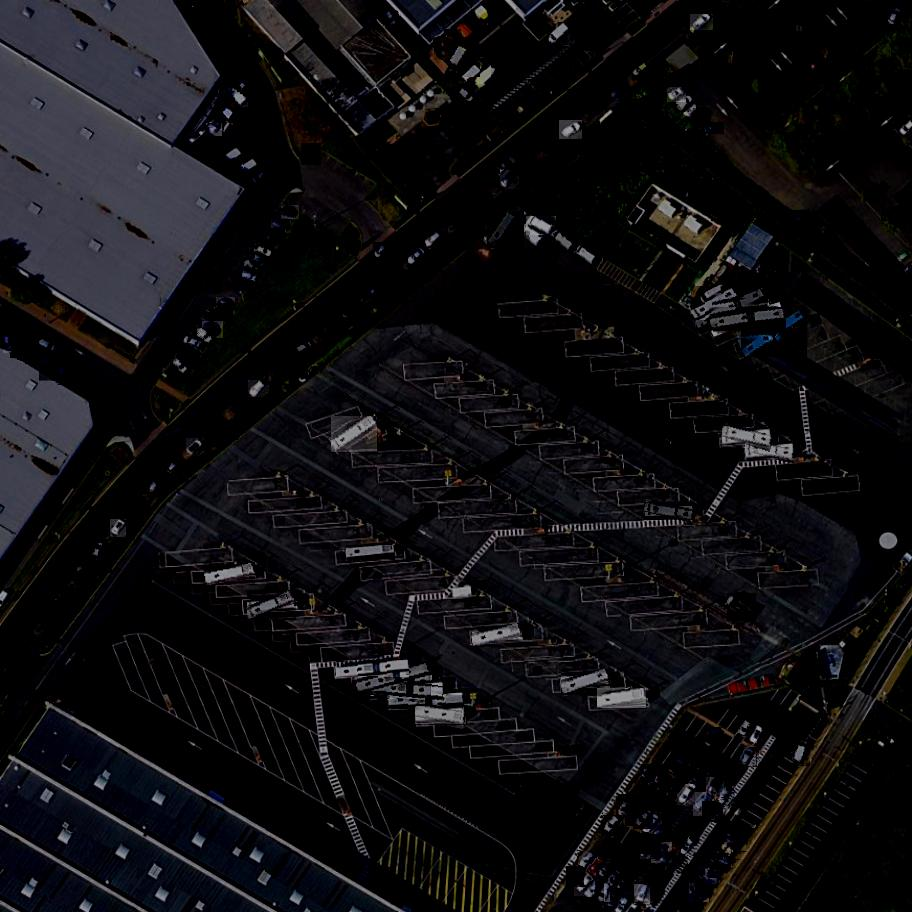large-vehicle: (742, 308, 809, 359), (697, 289, 769, 332), (352, 662, 432, 696), (709, 308, 787, 332), (331, 417, 379, 454), (487, 203, 524, 249), (692, 285, 740, 320), (247, 590, 297, 620), (336, 659, 410, 678), (561, 669, 611, 696), (369, 683, 444, 700), (472, 624, 524, 648), (723, 426, 774, 449), (206, 562, 256, 585), (460, 57, 494, 87), (597, 689, 648, 709), (415, 707, 467, 726), (389, 695, 464, 708), (471, 65, 500, 98), (448, 36, 475, 70), (645, 502, 696, 520), (745, 442, 795, 459), (347, 545, 396, 561), (453, 51, 481, 77)
small-vehicle: (727, 593, 759, 621), (547, 22, 574, 48), (234, 157, 262, 181), (526, 215, 556, 237), (551, 229, 577, 254), (519, 224, 545, 248), (219, 148, 246, 170), (693, 793, 716, 818), (434, 35, 456, 61), (638, 837, 661, 861), (226, 85, 249, 108), (494, 154, 518, 176), (685, 768, 707, 792), (667, 851, 689, 875), (340, 300, 361, 325), (585, 858, 610, 879), (39, 355, 59, 381), (178, 349, 200, 372), (215, 102, 238, 124), (630, 833, 653, 855), (730, 824, 754, 845), (790, 210, 811, 234), (616, 795, 636, 820), (691, 12, 713, 34), (574, 875, 596, 897), (702, 801, 725, 822), (649, 842, 672, 863), (642, 812, 663, 835), (575, 245, 598, 266), (669, 756, 690, 779), (602, 815, 623, 838), (793, 740, 811, 766), (586, 877, 604, 903), (425, 232, 447, 253), (248, 378, 270, 399), (302, 143, 323, 165), (456, 208, 477, 230), (690, 883, 712, 904), (577, 851, 599, 872), (211, 303, 234, 323), (677, 784, 697, 807), (567, 867, 587, 890), (559, 121, 583, 140), (652, 822, 673, 843), (633, 809, 654, 830), (716, 785, 735, 808), (658, 847, 681, 866), (881, 206, 904, 225), (146, 474, 165, 497), (625, 803, 643, 827), (706, 776, 724, 800), (704, 727, 722, 751), (374, 241, 394, 262), (202, 321, 223, 341), (195, 328, 216, 348), (456, 85, 477, 105), (683, 893, 705, 912), (706, 2, 728, 21), (607, 868, 626, 890), (724, 834, 747, 852), (741, 747, 759, 770), (216, 296, 236, 316), (677, 93, 697, 113), (610, 82, 630, 102), (128, 496, 148, 516), (501, 169, 520, 190), (528, 78, 549, 97), (830, 51, 852, 69), (444, 29, 461, 52), (856, 748, 879, 765), (408, 247, 428, 266), (186, 438, 205, 458), (279, 353, 300, 371), (167, 457, 185, 478), (748, 726, 766, 747), (597, 863, 615, 884), (653, 766, 669, 789), (172, 358, 191, 377), (633, 63, 652, 82), (10, 340, 29, 359), (616, 874, 635, 893), (250, 250, 270, 268), (693, 108, 711, 128), (679, 837, 697, 857), (73, 562, 93, 580), (294, 341, 315, 358), (183, 335, 204, 352), (671, 831, 688, 852), (668, 778, 684, 800), (596, 883, 612, 905), (683, 100, 701, 119), (252, 170, 271, 188), (721, 843, 739, 862), (635, 884, 650, 906), (93, 539, 108, 561), (55, 587, 73, 605), (668, 87, 687, 104), (709, 862, 728, 879), (110, 518, 127, 537), (40, 338, 60, 354), (271, 220, 292, 235), (234, 78, 252, 95), (235, 274, 251, 293), (888, 7, 904, 26), (206, 122, 223, 139), (369, 282, 385, 300), (267, 231, 286, 246), (281, 205, 300, 220), (243, 260, 263, 274), (255, 245, 275, 259), (696, 879, 716, 893), (319, 324, 339, 338), (642, 764, 656, 784), (608, 889, 621, 910), (738, 719, 753, 737), (241, 270, 260, 284), (384, 10, 399, 27), (705, 870, 722, 885), (703, 123, 724, 135), (715, 855, 733, 868), (25, 346, 37, 365), (3, 335, 15, 354), (812, 61, 832, 72), (57, 367, 66, 385)
